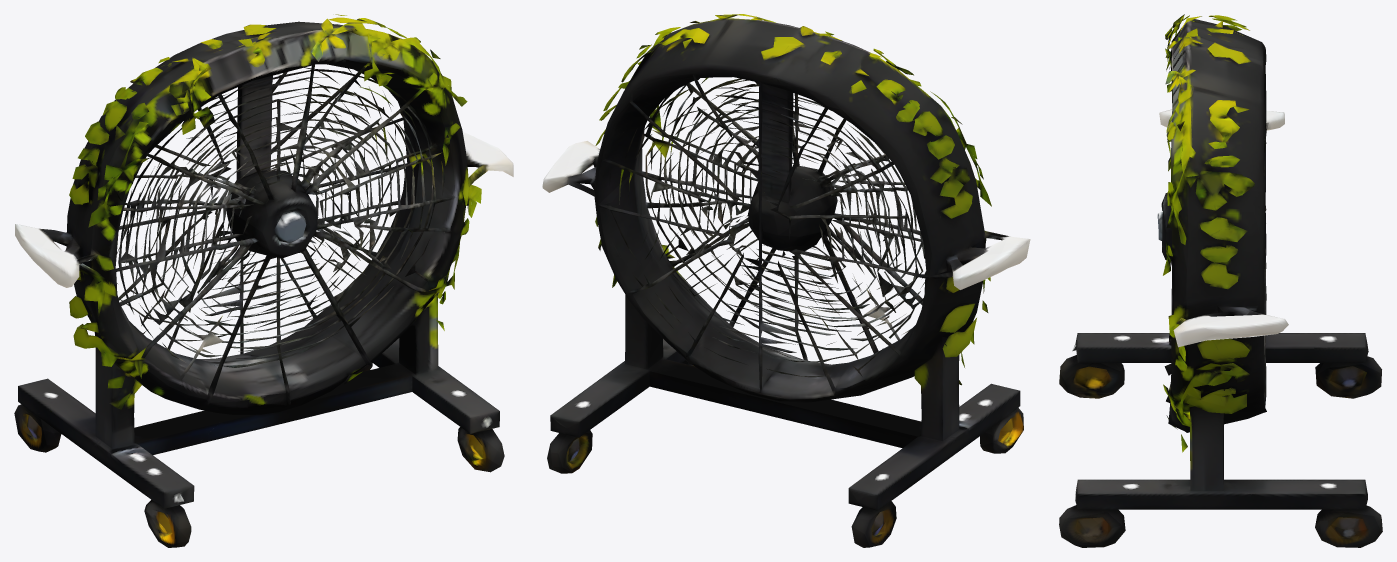
The model's file is base_basic_shaded.fbx.
The picture shows the model from 3 angles, left to right: view 1: azimuth 30°, elevation 25°; view 2: azimuth 150°, elevation 25°; view 3: azimuth 270°, elevation 25°; orthographic projection. The views are drawn at different scales.
Parts seen in each view (by area): view 1: model; view 2: model; view 3: model.
Boxes of the visible parts, x1,y1,x2,y2 form: model: (14, 14, 513, 547); model: (542, 14, 1030, 547); model: (1059, 14, 1382, 547).
Bounding box in the file's own units: 181 × 164 × 112.
